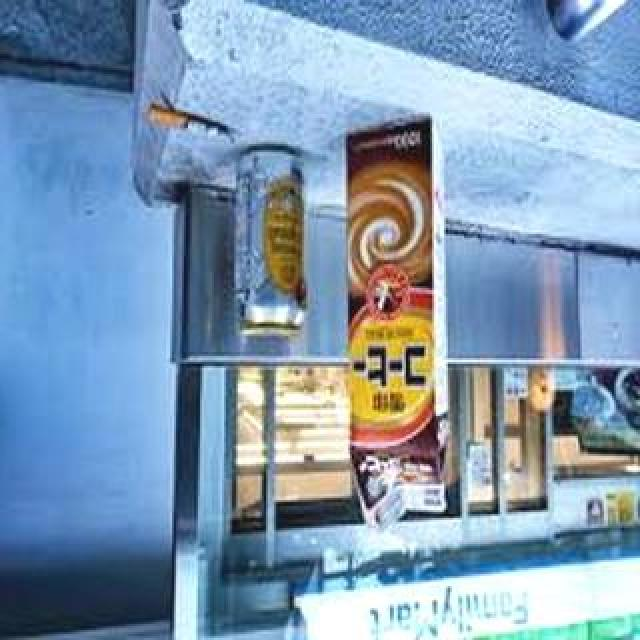Can: (226, 147, 310, 341)
